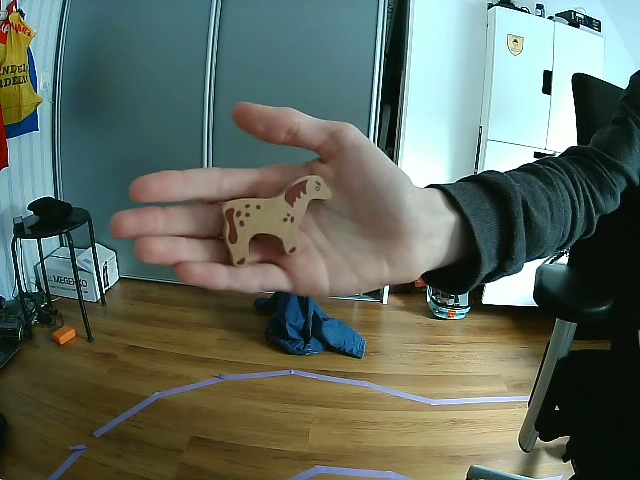paard: (223, 176, 328, 268)
